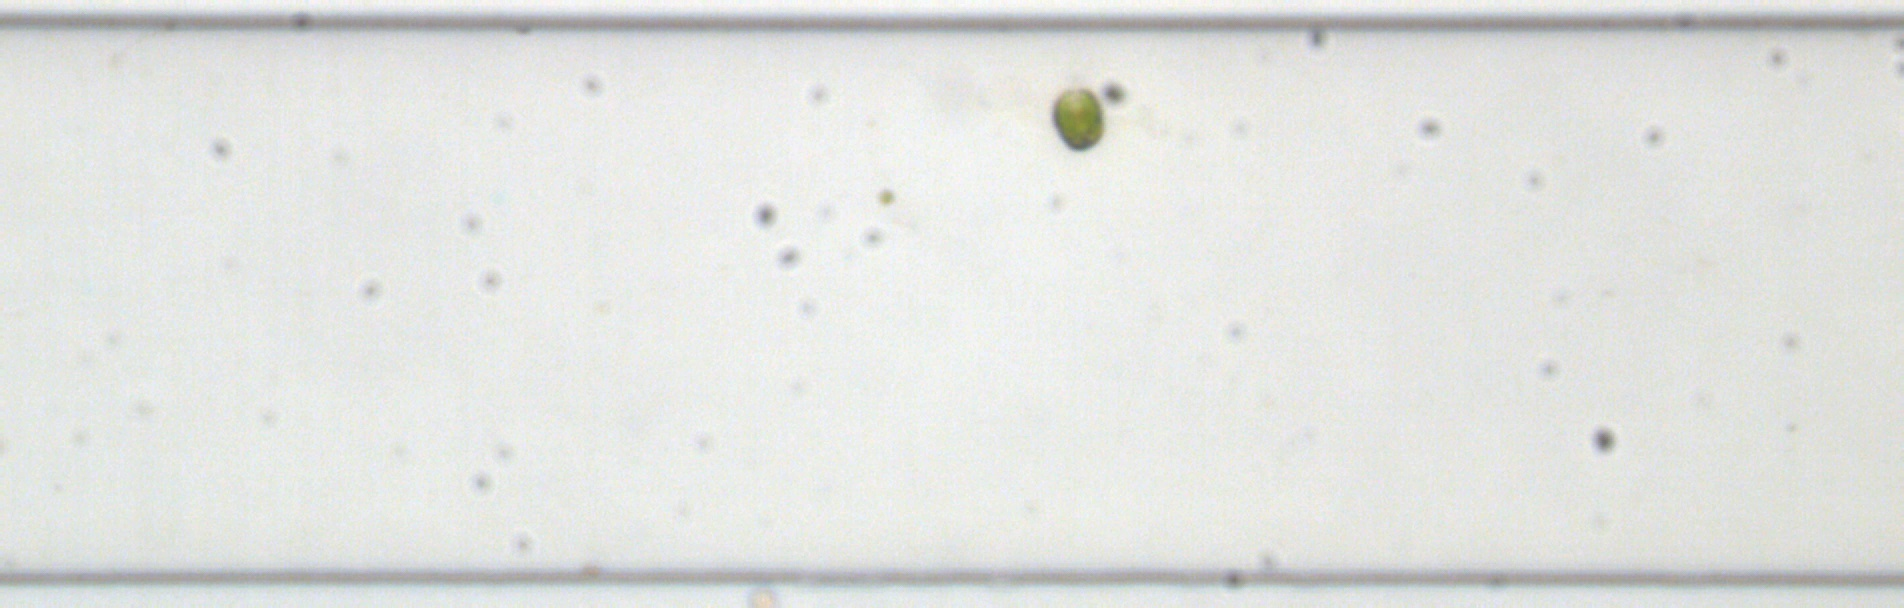Chlorella: (873, 184, 899, 206)
Platymonas: (1047, 84, 1109, 154)
